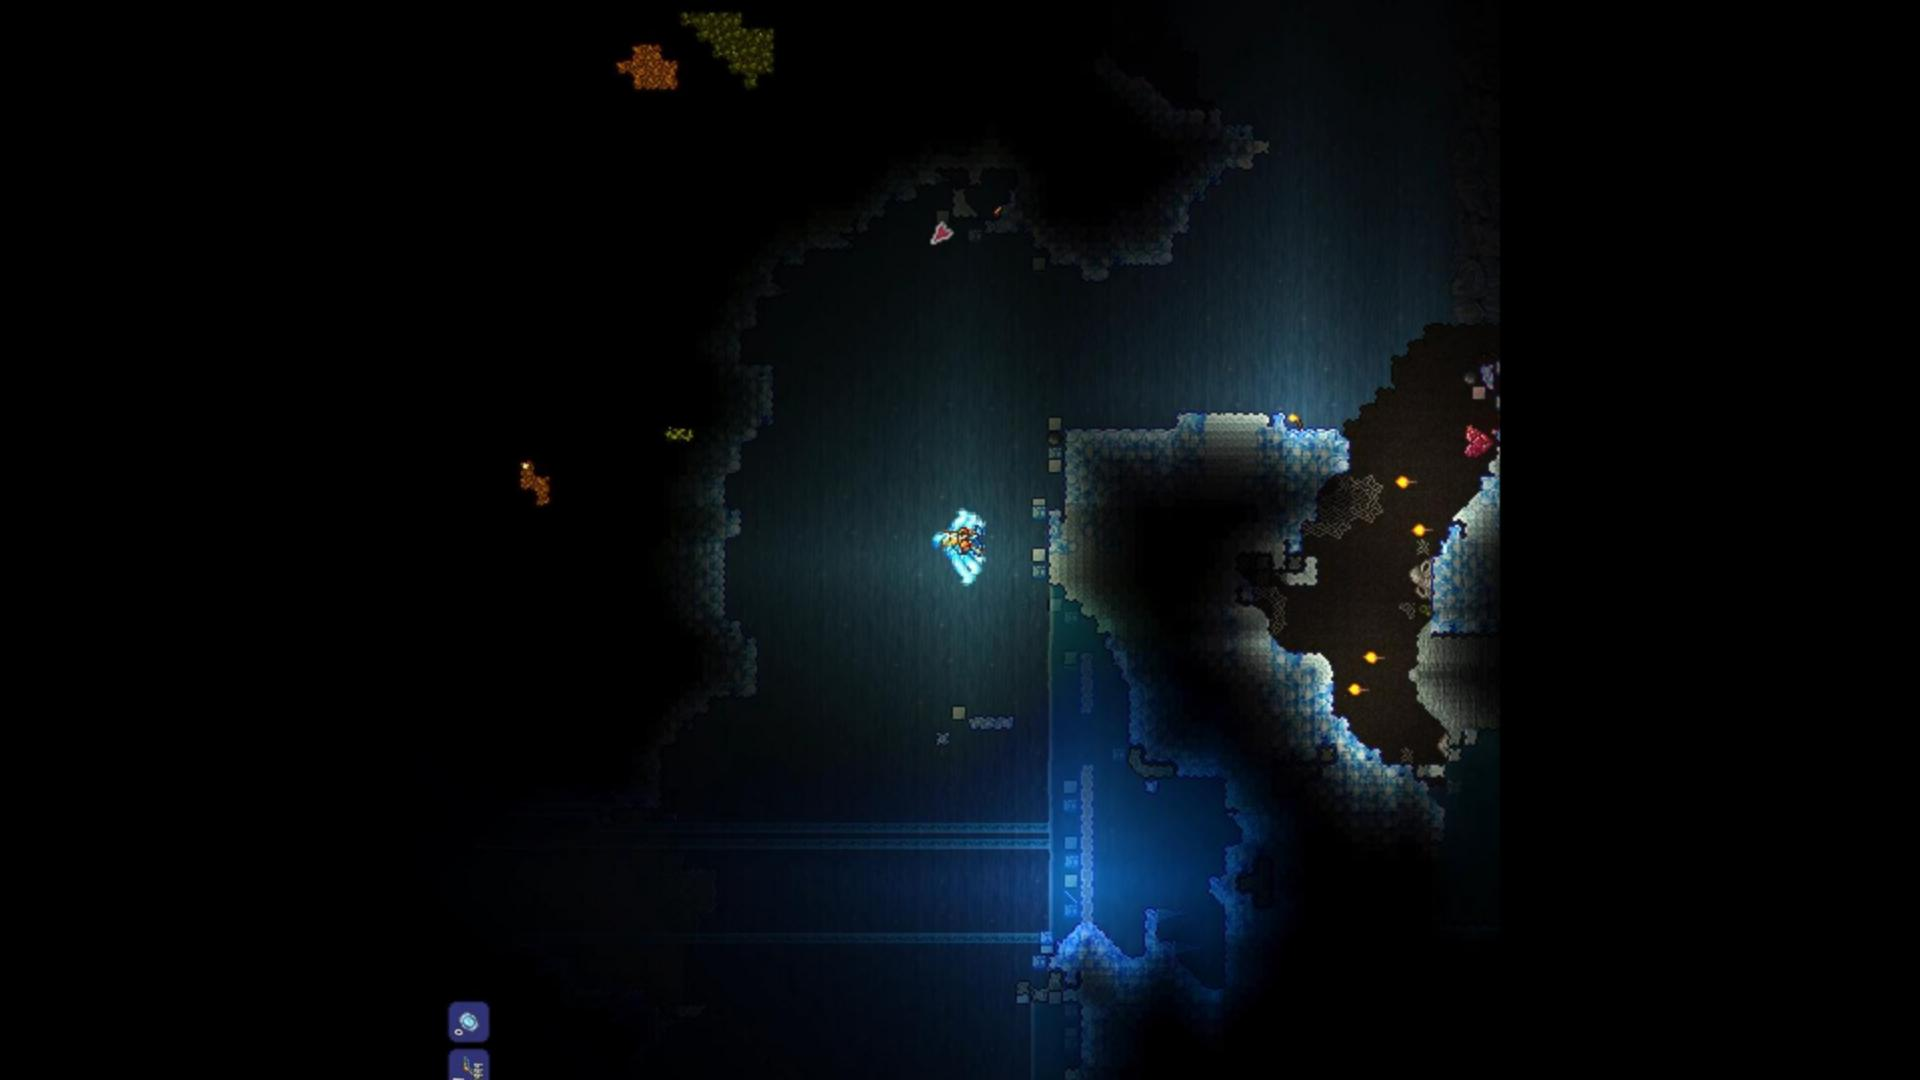lifeC: (1460, 421, 1501, 460)
